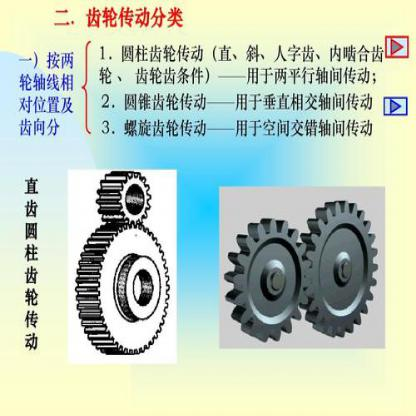FOD: (74, 222, 172, 358), (222, 213, 310, 344), (303, 197, 380, 340), (94, 169, 154, 230)
